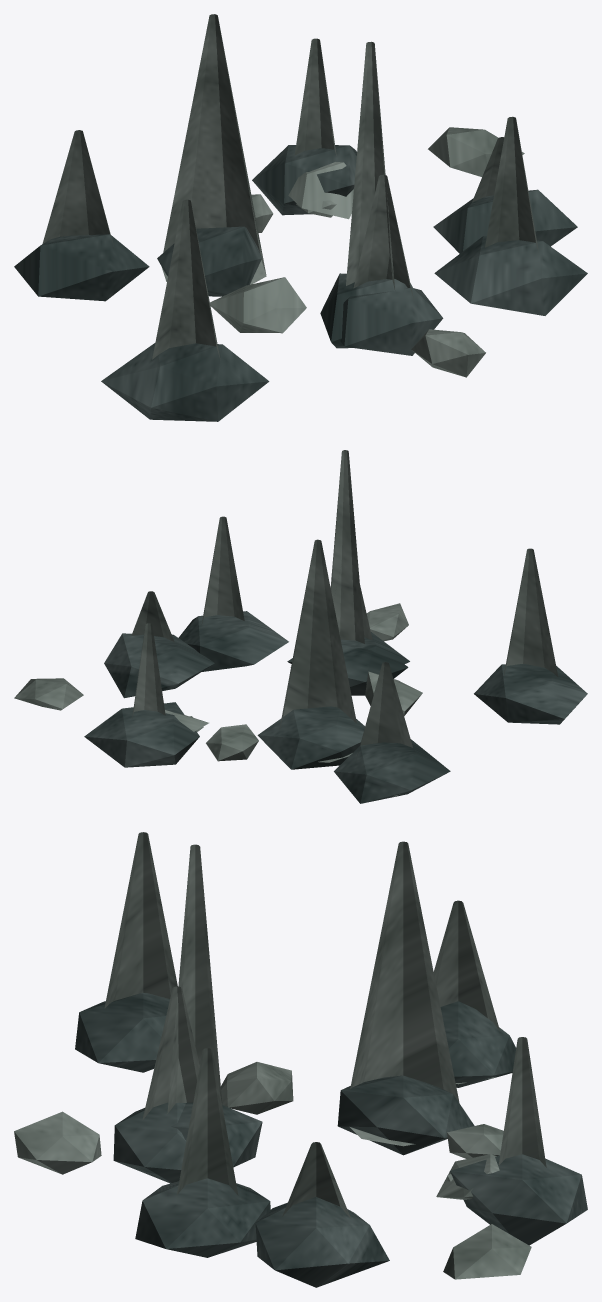
Rendered from 0083_stalagmites_08.glb.
The picture shows the model from 3 angles, top to bottom: view 1: azimuth 30°, elevation 25°; view 2: azimuth 150°, elevation 25°; view 3: azimuth 270°, elevation 25°; orthographic projection. The views are drawn at different scales.
Parts seen in each view (by area): view 1: stone, stone_dark; view 2: stone_dark, stone; view 3: stone, stone_dark.
Boxes of the visible parts, box(x1,y1,x2,y2) form: stone: box(42, 14, 538, 377); stone_dark: box(14, 145, 587, 421); stone_dark: box(84, 611, 587, 803); stone: box(14, 450, 558, 796); stone: box(14, 832, 546, 1279); stone_dark: box(75, 992, 587, 1287).
Size of the model in its own units: 2.84 by 1.51 by 2.38.
Materials: 2 (2 with a texture image).
